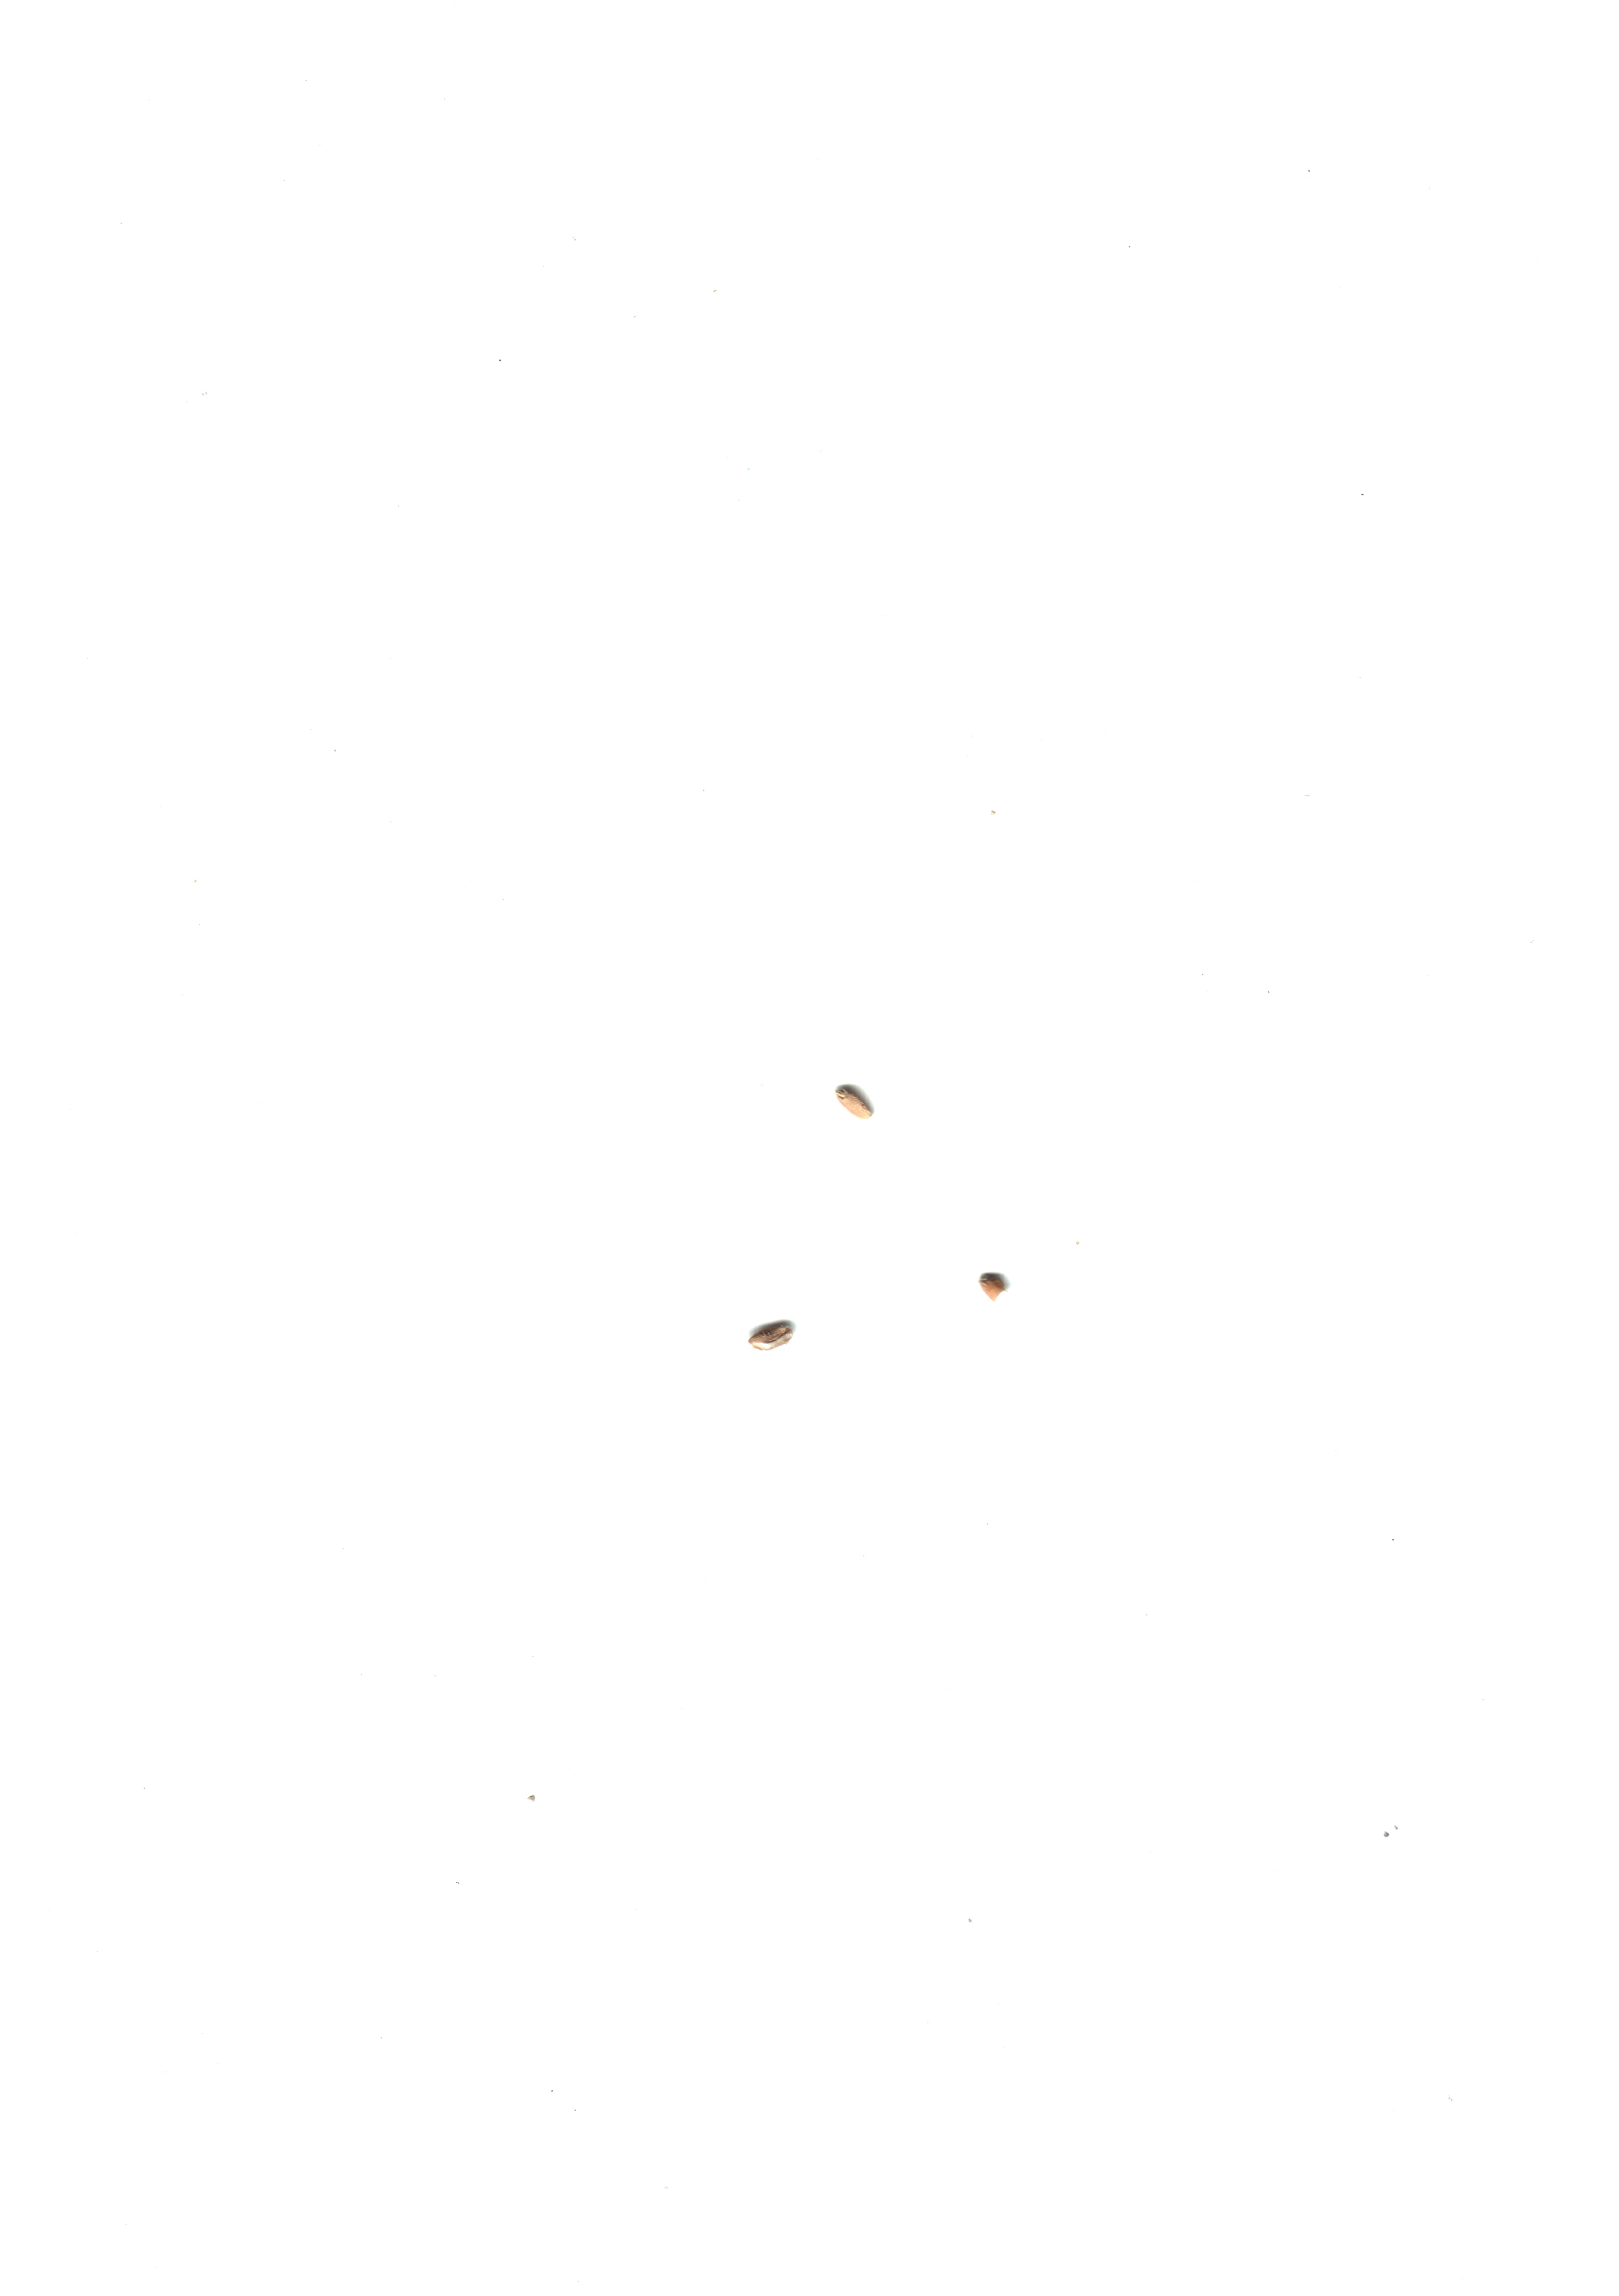grains_2mm: (734, 1293, 817, 1372), (953, 1239, 1034, 1318), (811, 1060, 892, 1139)
